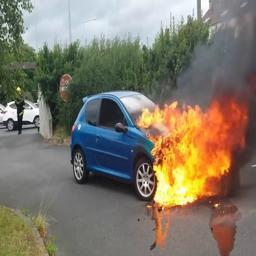fire: (138, 101, 256, 206)
